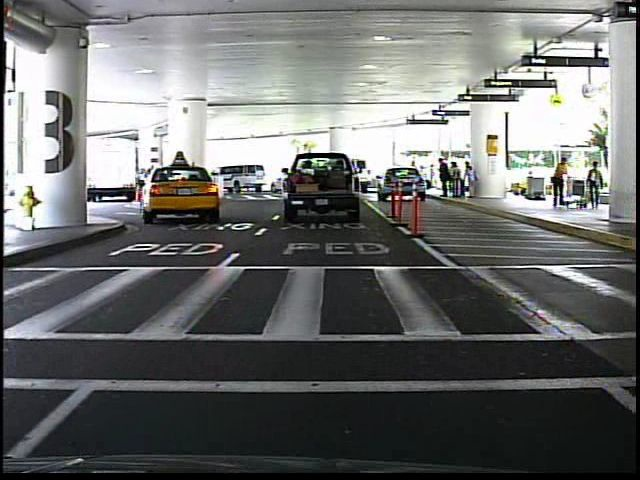person: (549, 154, 573, 212), (586, 158, 606, 212), (407, 158, 422, 193)
